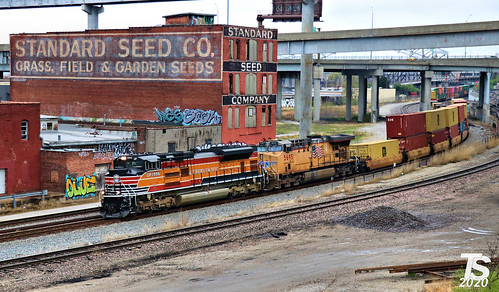bridge: (281, 22, 499, 116)
building: (16, 16, 284, 171), (48, 119, 210, 206)
train: (98, 104, 474, 225)
train track: (1, 153, 499, 283)
